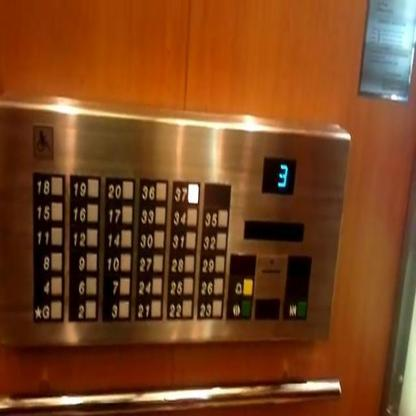10: (102, 250, 133, 274)
11: (31, 222, 64, 250)
12: (67, 224, 100, 248)
14: (103, 226, 134, 250)
15: (31, 197, 64, 225)
16: (67, 200, 100, 224)
17: (103, 201, 134, 225)
18: (30, 171, 66, 199)
19: (68, 172, 101, 202)
2: (66, 298, 98, 323)
20: (103, 176, 135, 200)
21: (134, 298, 163, 322)
22: (165, 297, 194, 322)
23: (195, 296, 224, 320)
24: (134, 274, 164, 299)
25: (166, 273, 195, 298)
26: (196, 272, 226, 297)
27: (136, 250, 165, 275)
28: (167, 250, 197, 275)
29: (198, 250, 227, 274)
3: (101, 297, 132, 322)
30: (137, 227, 166, 251)
31: (168, 226, 198, 251)
32: (200, 231, 229, 252)
33: (138, 203, 167, 228)
34: (169, 204, 199, 227)
35: (202, 206, 230, 230)
36: (137, 177, 169, 203)
37: (170, 178, 200, 204)
4: (31, 274, 64, 297)
6: (67, 272, 99, 298)
7: (102, 273, 132, 298)
8: (31, 250, 64, 274)
9: (66, 249, 99, 272)
CH: (30, 122, 55, 162)
alarm: (226, 275, 254, 297)
close: (282, 297, 309, 322)
led: (260, 155, 296, 193)
open: (224, 296, 254, 320)
sG: (31, 296, 63, 323)
